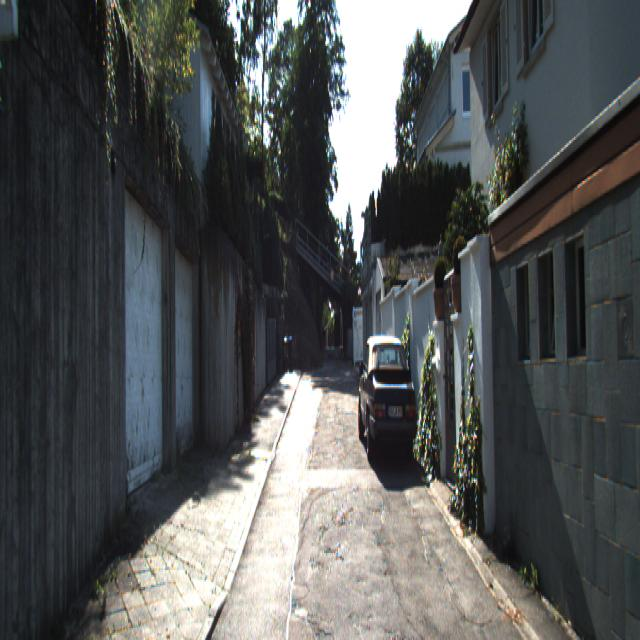Car: (355, 325, 419, 470)
